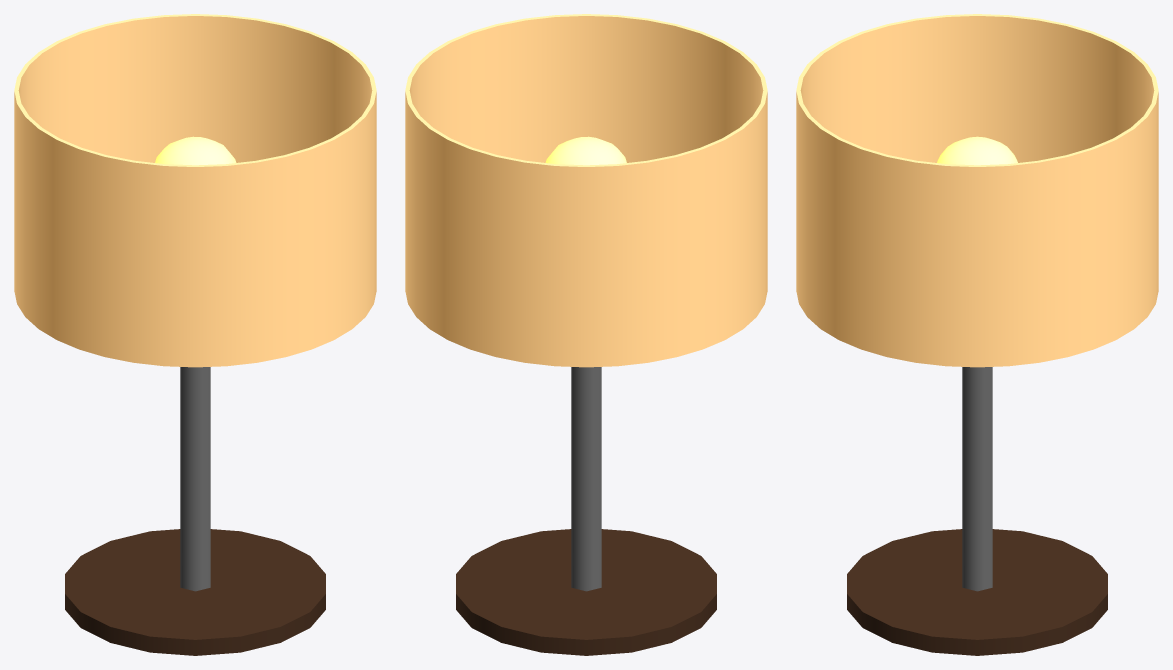
The model's file is Table_Lamp_ShortRoundBase_RoundShade.fbx.
3 renders of one model, left to right at view 1: azimuth 30°, elevation 25°; view 2: azimuth 150°, elevation 25°; view 3: azimuth 270°, elevation 25°, orthographic.
Visible parts, largest first — view 1: Table_Lamp_ShortRoundBase_RoundShade; view 2: Table_Lamp_ShortRoundBase_RoundShade; view 3: Table_Lamp_ShortRoundBase_RoundShade.
Part boxes in pixels (x1,y1,x2,y2): Table_Lamp_ShortRoundBase_RoundShade: [14, 14, 376, 655]; Table_Lamp_ShortRoundBase_RoundShade: [405, 14, 767, 655]; Table_Lamp_ShortRoundBase_RoundShade: [796, 14, 1158, 655].
Size of the model in its own units: 30.75 by 47.69 by 30.75.
